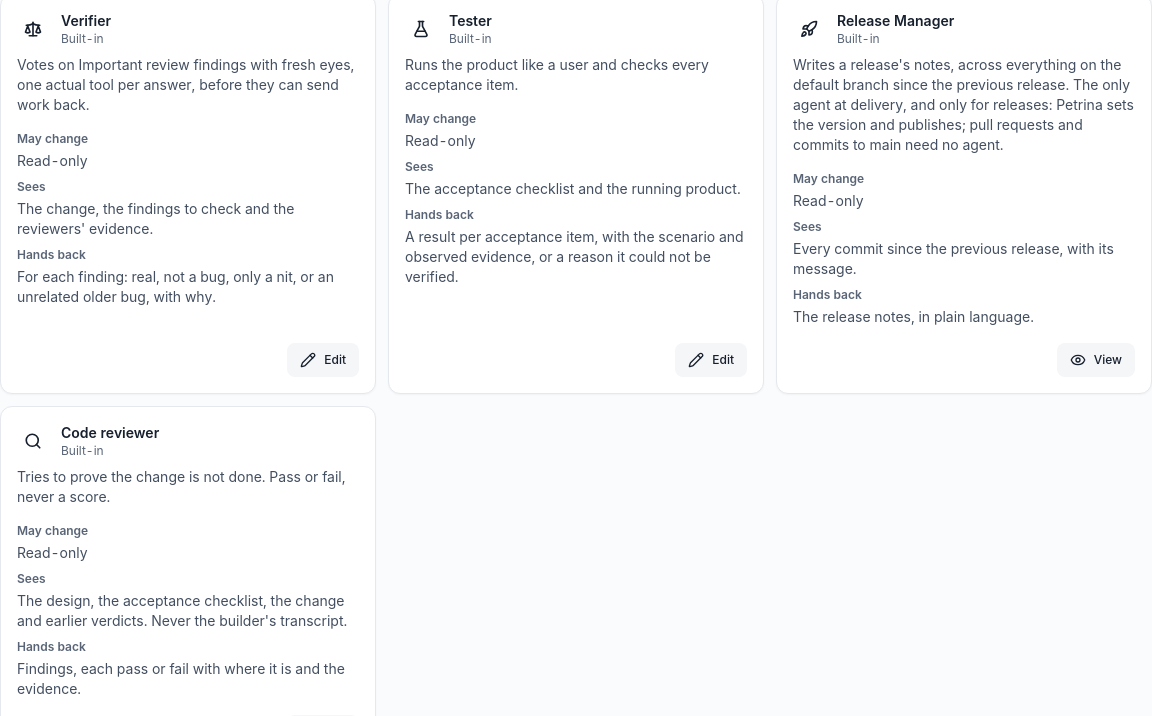
Test: the Library role forms › labels every built-in card and offers View only for the Release Manager
(page scrolled)
Check: the element with class "role-card" shows "Built-in", box [61,31,104,46]
Check: the button "Edit" below "Verifier" is shown, box [287,343,359,377]
Click the button "View".
click(1096, 360)  # box [1057,343,1135,377]
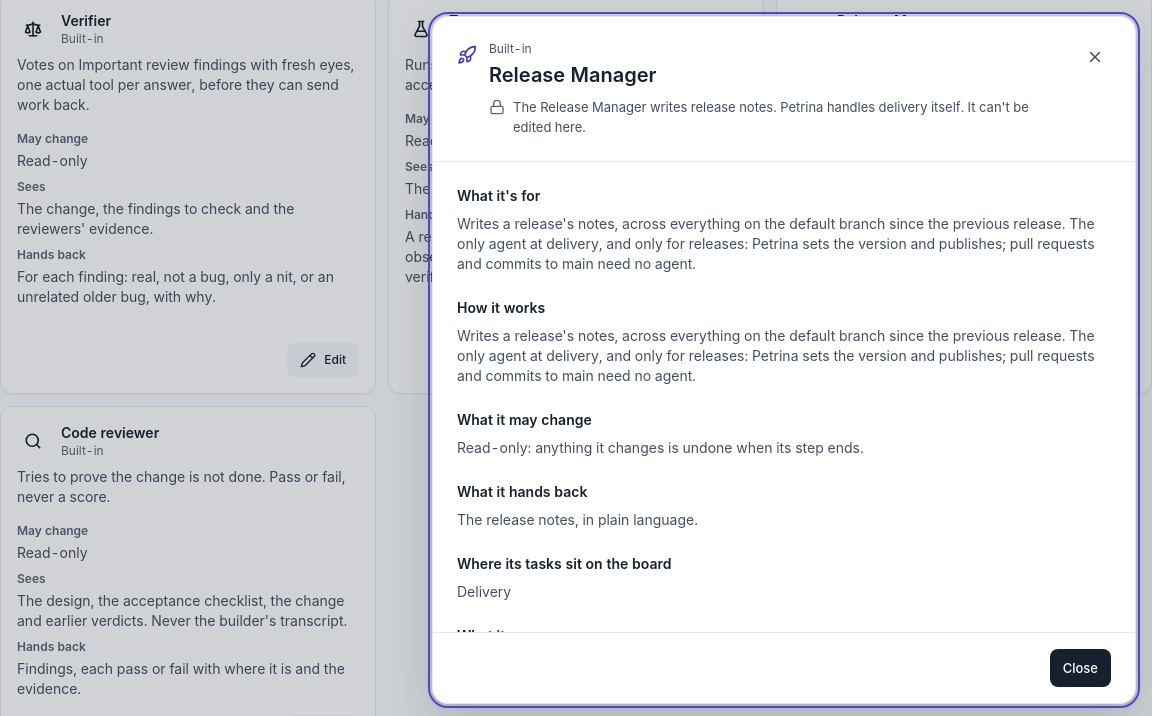
Check: the dialog with class "sheet" shows "It can't be edited here.", box [513,99,1029,135]
Check: the button named "Close" is shown
Click the button named "Close".
click(1095, 57)  # box [1079,41,1111,73]
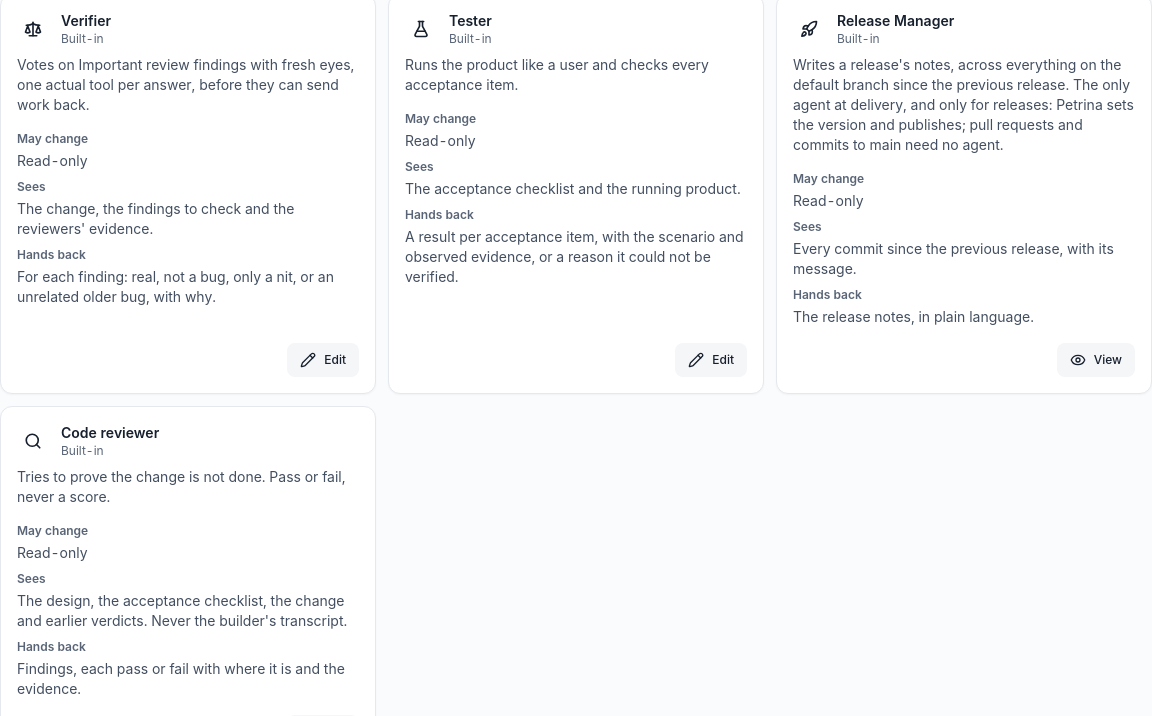
Check: the dialog with class "sheet" is gone
